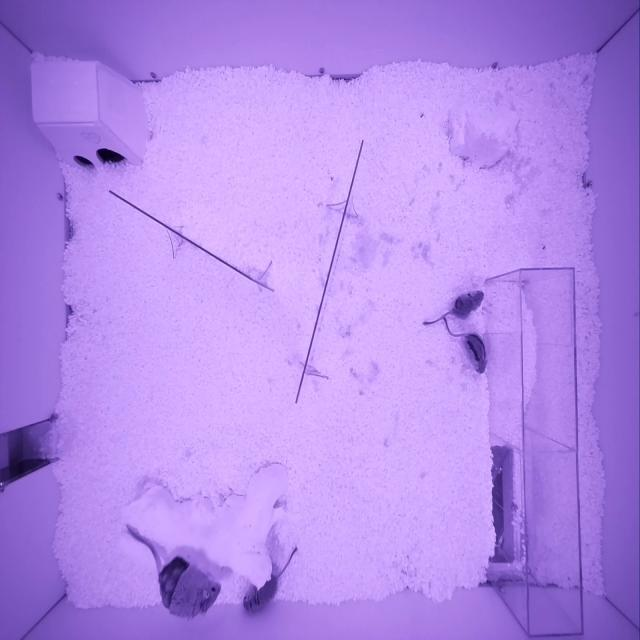adult_back: (157, 555, 222, 619)
pup_fluffy: (242, 573, 277, 613)
pup_spotted: (450, 289, 483, 319)
pup_v_stripe: (464, 332, 488, 374)
